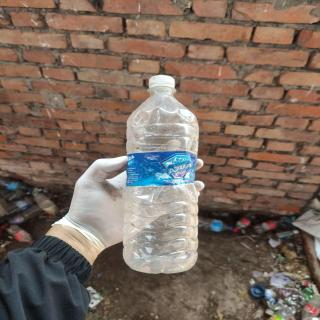Plastic-bottle: (122, 72, 204, 279)
